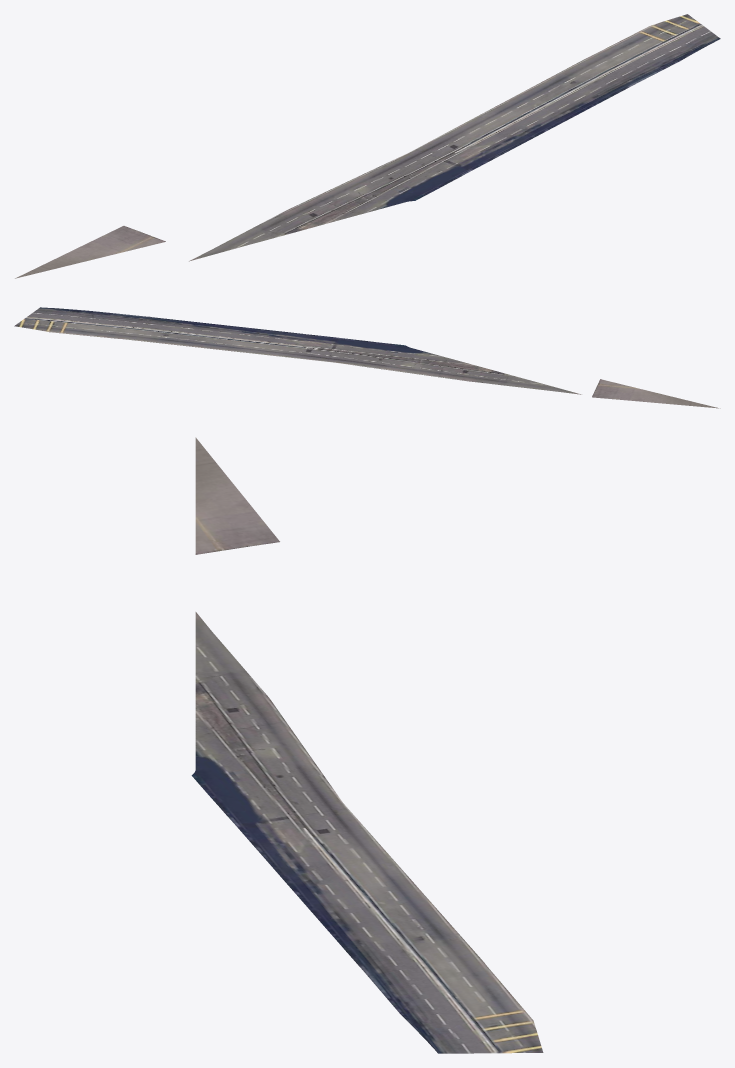
The model's file is roads_context_20.glb.
The picture shows the model from 3 angles, top to bottom: view 1: azimuth 30°, elevation 25°; view 2: azimuth 150°, elevation 25°; view 3: azimuth 270°, elevation 25°; orthographic projection. The views are drawn at different scales.
Visible parts, largest first — view 1: I090001860001062A1.001; view 2: I090001860001062A1.001; view 3: I090001860001062A1.001.
Part boxes in pixels (<box>): I090001860001062A1.001: <box>15,14,720,278</box>; I090001860001062A1.001: <box>14,307,720,408</box>; I090001860001062A1.001: <box>191,437,543,1053</box>.
Bounding box in the file's own units: 225 × 7 × 55.16.
2 materials, 2 textured.
